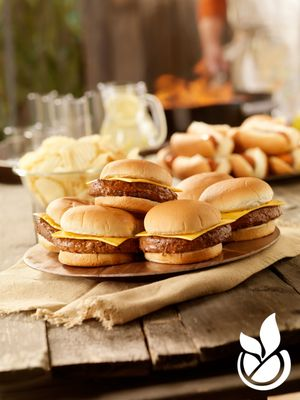soup: (34, 198, 142, 267), (140, 199, 237, 264), (197, 176, 285, 242)
